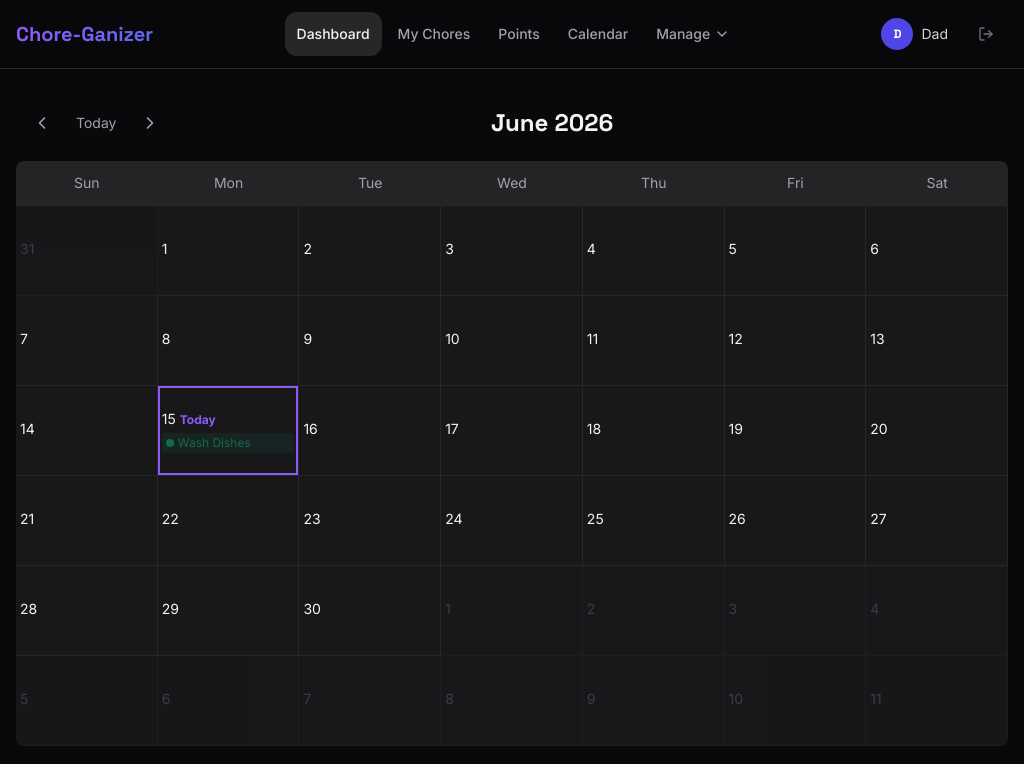
CalendarPage › renders a partially complete chore as Partially Complete in the selected-date dialog
This screenshot has width=1024, height=764.
Click the button with aria-label "View chores for June 15, 2026". click: (229, 431)
box: top-left (158, 386), bottom-right (299, 476)
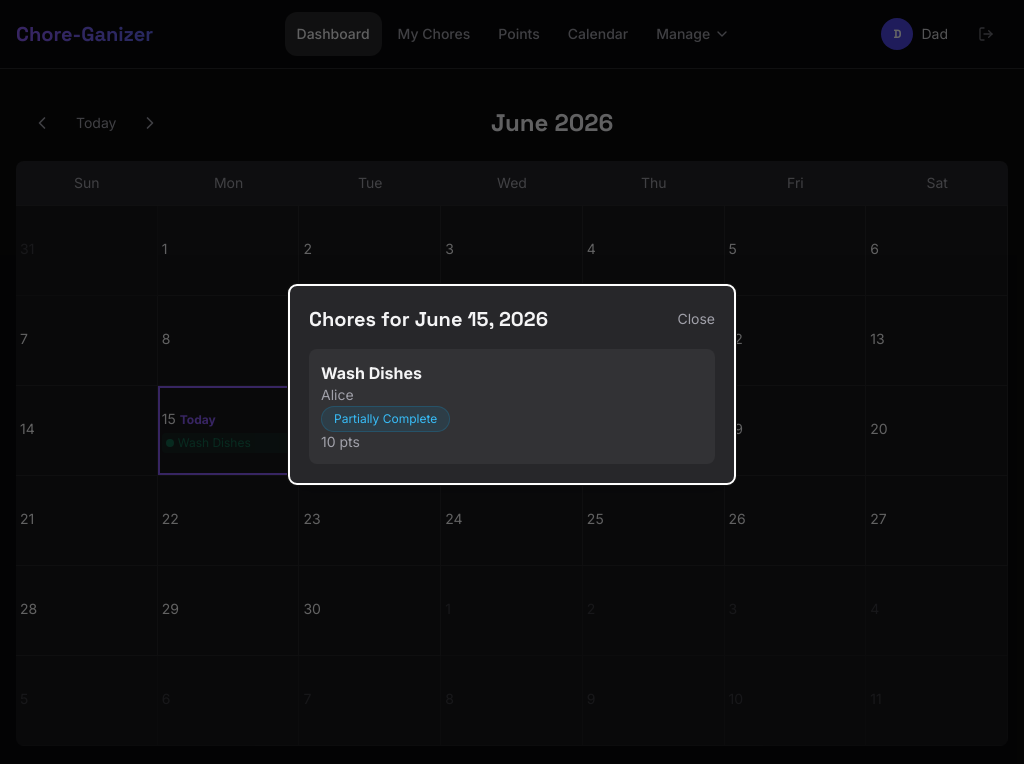
Expected: the text "Partially Complete" is shown, top-left (321, 406), bottom-right (450, 432)
